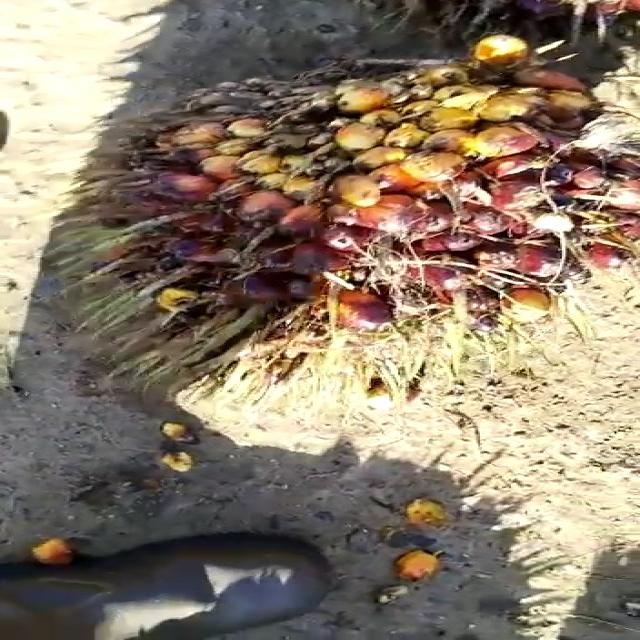palm oil: (88, 43, 640, 391)
